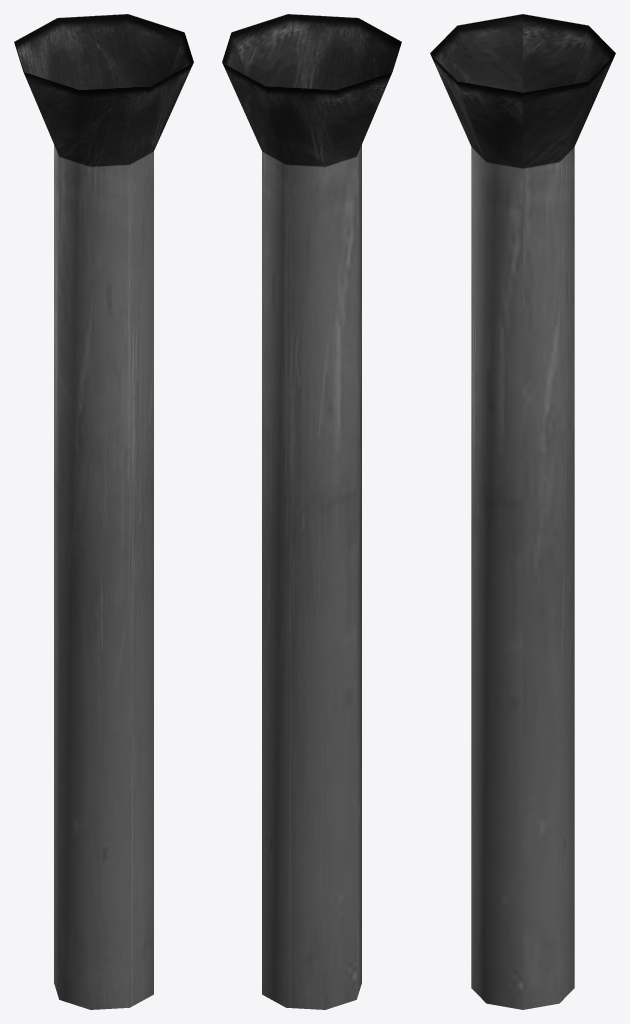
Rendered from dv_weapon.FBX.
The picture shows the model from 3 angles, left to right: view 1: azimuth 30°, elevation 25°; view 2: azimuth 150°, elevation 25°; view 3: azimuth 270°, elevation 25°; orthographic projection.
Parts seen in each view (by area): view 1: dv_weapon; view 2: dv_weapon; view 3: dv_weapon.
Boxes of the visible parts, x1,y1,x2,y2 form: dv_weapon: (14,14,193,1009); dv_weapon: (222,14,401,1009); dv_weapon: (430,14,615,1009).
Size of the model in its own units: 3.6 by 3.6 by 20.
1 material, 1 textured.
